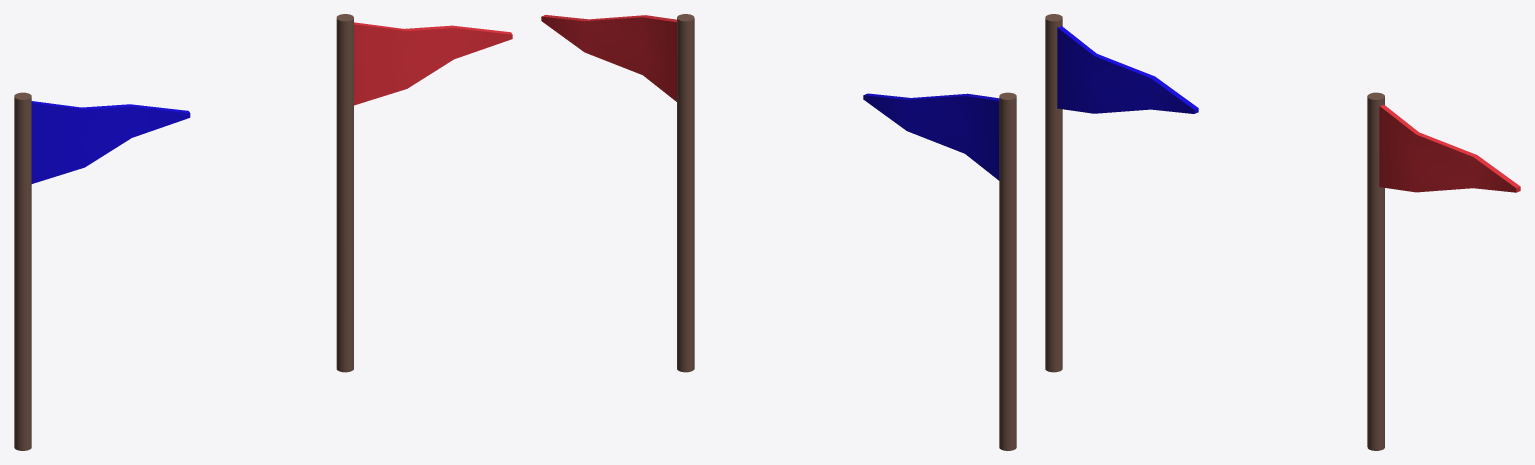
Rendered from Flags.fbx.
3 renders of one model, left to right at view 1: azimuth 30°, elevation 25°; view 2: azimuth 150°, elevation 25°; view 3: azimuth 330°, elevation 25°, orthographic.
Parts seen in each view (by area): view 1: Cylinder.001, Cylinder; view 2: Cylinder.001, Cylinder; view 3: Cylinder.001, Cylinder.
Boxes of the visible parts, x1,y1,x2,y2 form: Cylinder.001: [336, 14, 512, 372]; Cylinder: [14, 92, 190, 450]; Cylinder.001: [541, 14, 694, 372]; Cylinder: [863, 92, 1016, 450]; Cylinder.001: [1367, 92, 1520, 450]; Cylinder: [1045, 14, 1198, 372].
Size of the model in its own units: 1210 by 836 by 77.89.
